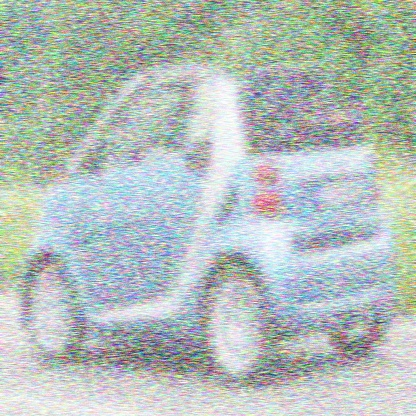Vehicle: (20, 59, 399, 389)
